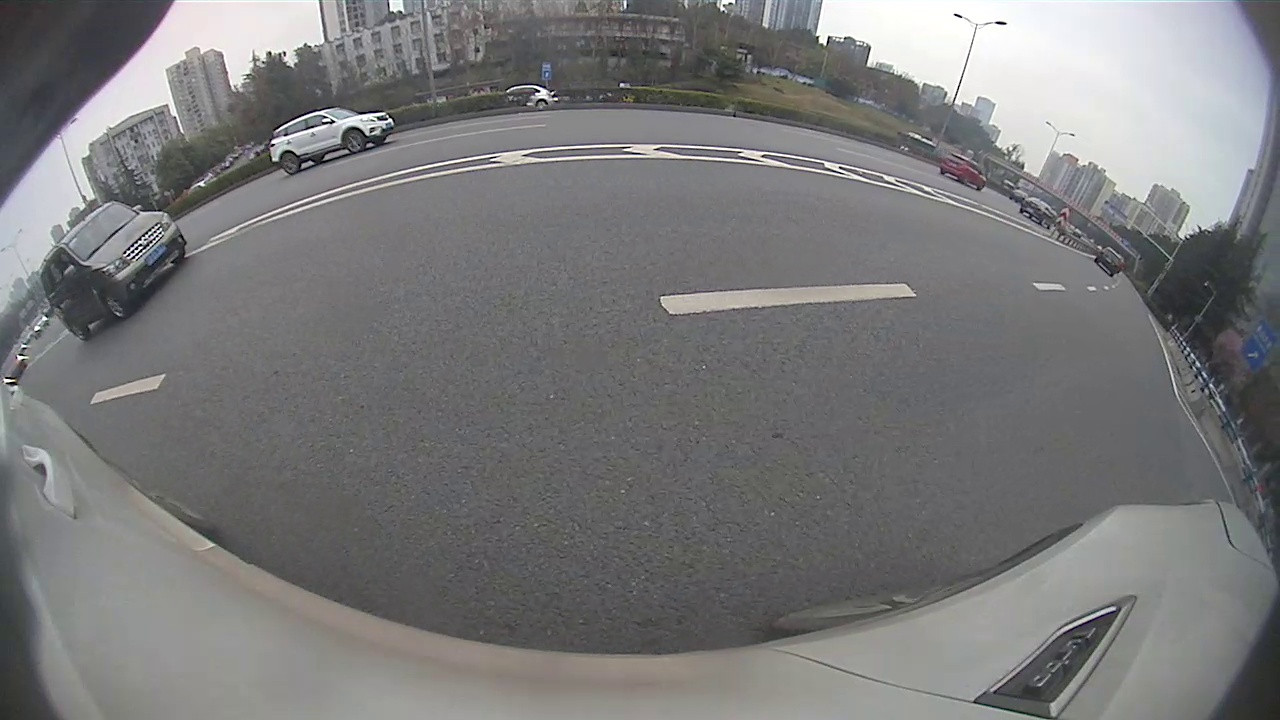car: (37, 198, 188, 343), (266, 105, 397, 177), (938, 148, 987, 192), (1020, 193, 1059, 229), (1094, 245, 1126, 279)
front: (102, 289, 132, 322), (341, 126, 369, 155)
rear: (279, 152, 303, 177)
